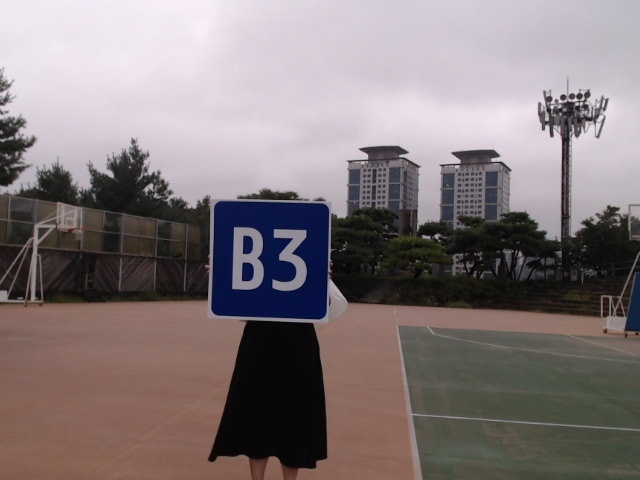delivery_b3: (211, 200, 329, 321)
